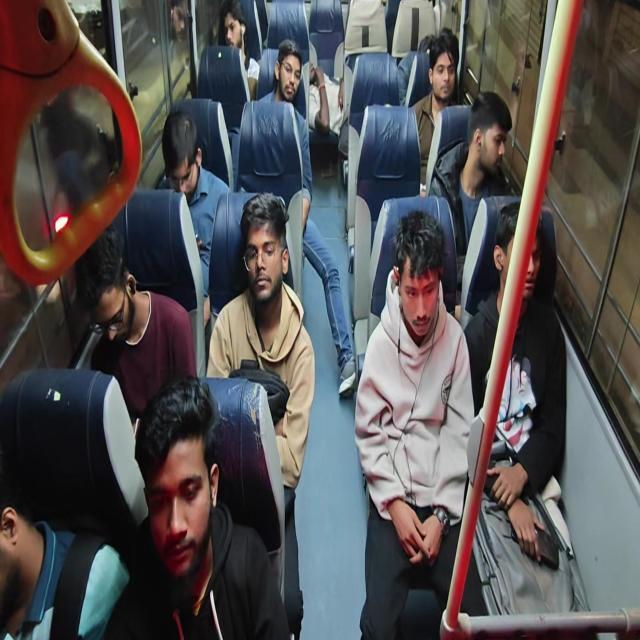person: (76, 207, 186, 475), (142, 382, 231, 578), (0, 392, 50, 639), (229, 171, 303, 328), (493, 198, 558, 333), (393, 217, 449, 354), (145, 94, 205, 193), (304, 38, 348, 141), (265, 41, 323, 108), (464, 103, 506, 181), (425, 23, 465, 92), (220, 4, 260, 62), (417, 17, 437, 48)
